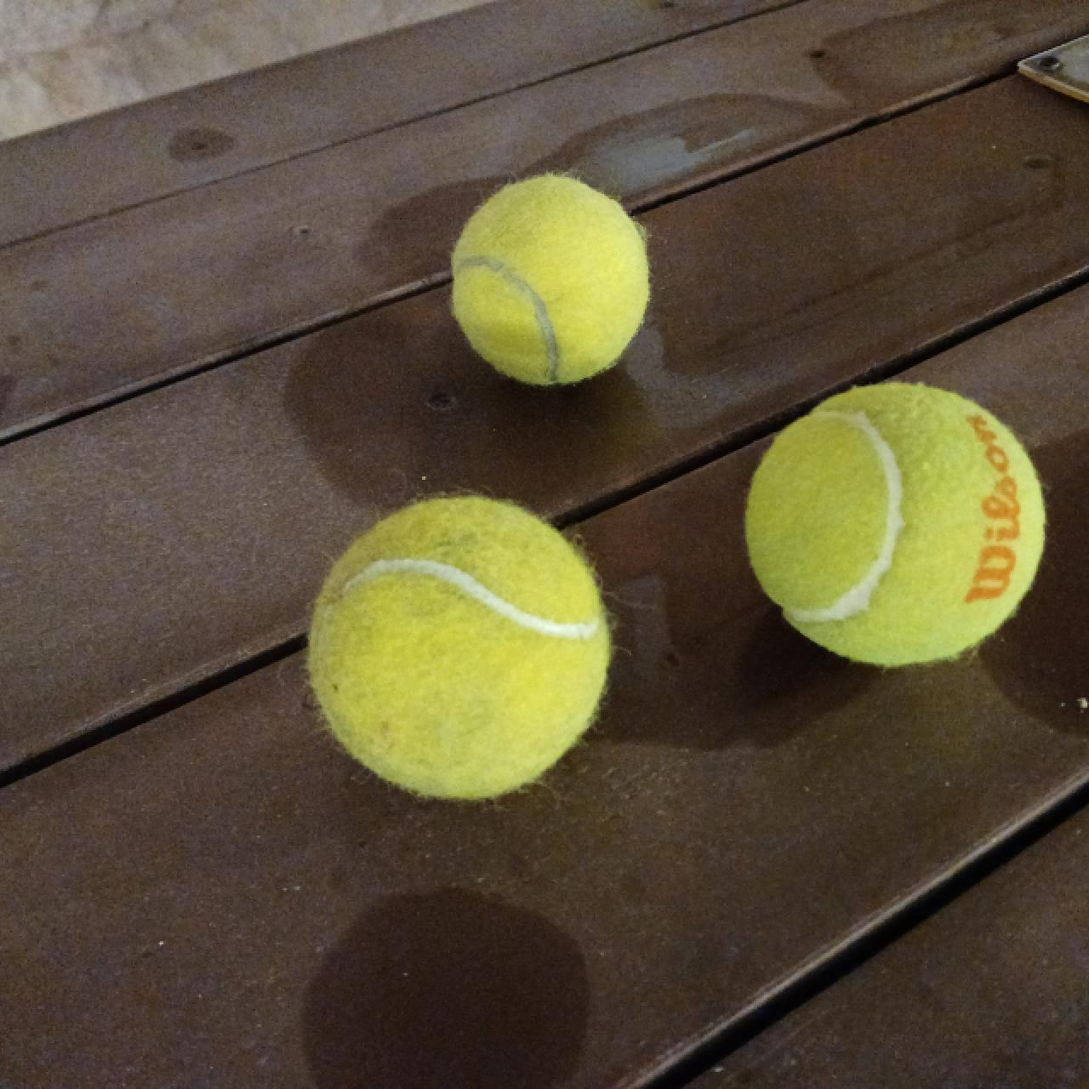tennis-ball: (306, 493, 609, 801), (745, 382, 1045, 665), (450, 172, 651, 386)
